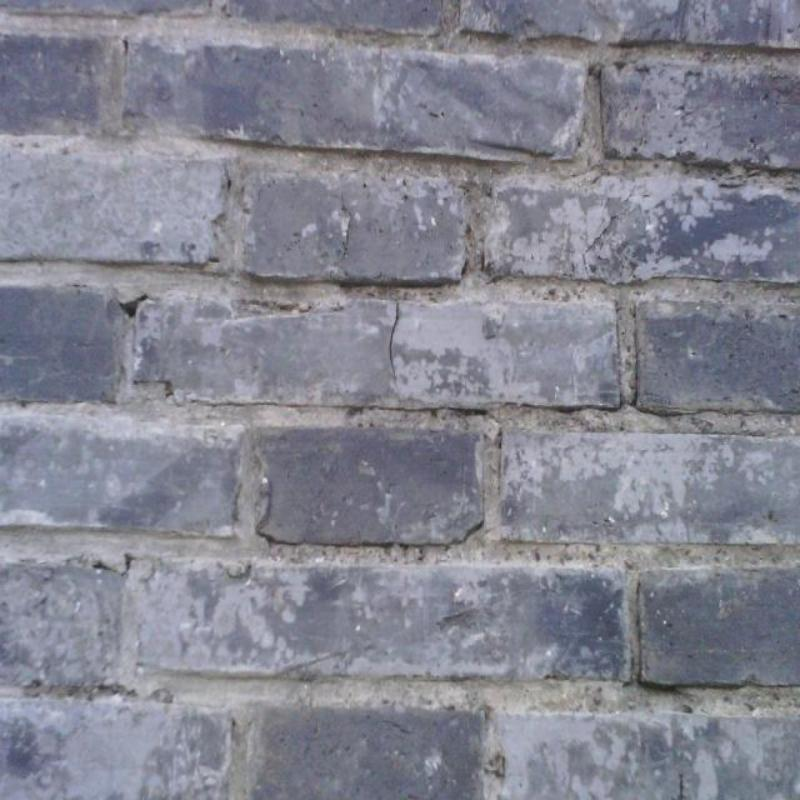pothole: (582, 215, 615, 275), (389, 303, 399, 388), (340, 191, 351, 259), (121, 296, 144, 315)
